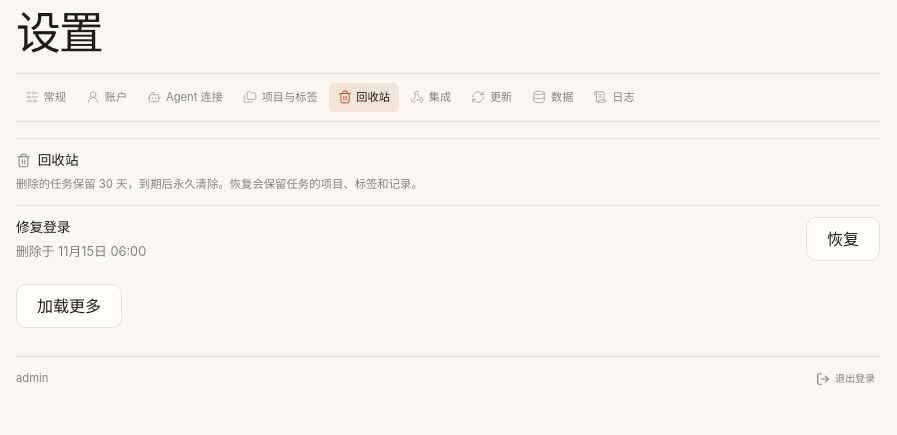
Test: paginates trash, retries errors and restores immediately with cache invalidation
This screenshot has width=897, height=435.
Expected: the text "修复登录" is shown, x1=16 y1=219 x2=70 y2=235
Expected: the text "删除的任务保留 30 天，到期后永久清除。恢复会保留任务的项目、标签和记录。" is shown, x1=16 y1=177 x2=423 y2=191
Click the button "加载更多" at (69, 306), box x1=16 y1=284 x2=122 y2=328
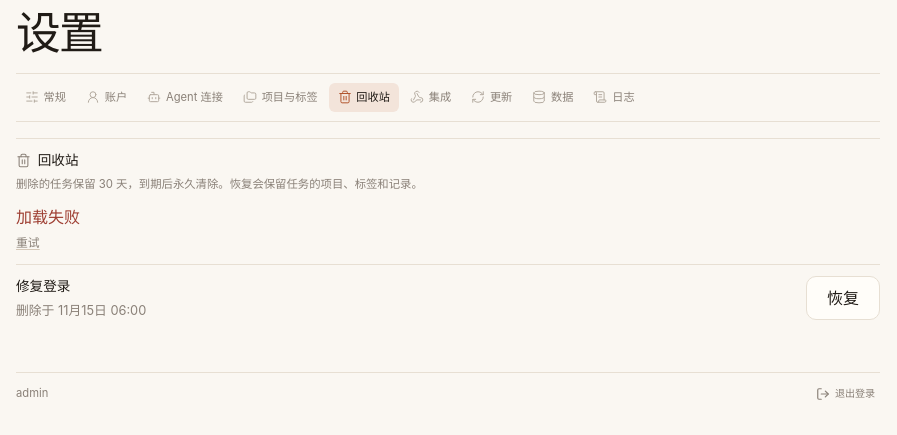
Now the message shows "加载失败", box x1=16 y1=207 x2=80 y2=227
Click the button "重试" at (28, 244), box x1=16 y1=235 x2=40 y2=252
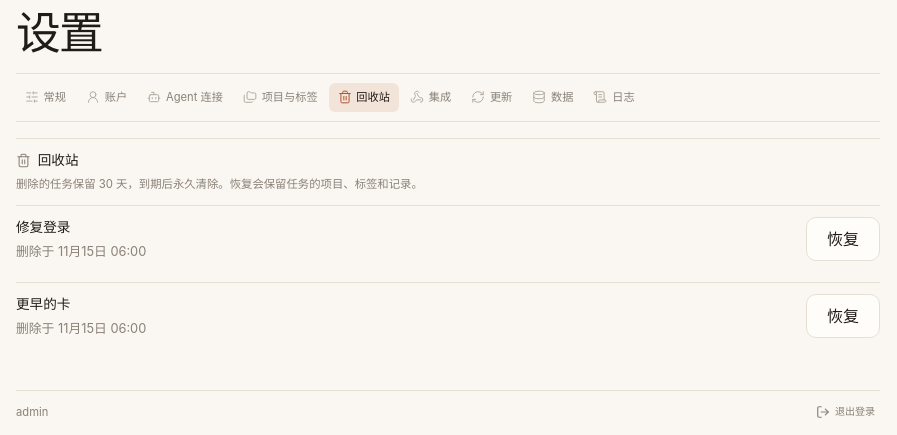
Now the text "更早的卡" is shown, box x1=16 y1=296 x2=70 y2=312
Click the button with aria-label "恢复任务 修复登录" at (843, 239), box x1=806 y1=217 x2=880 y2=261
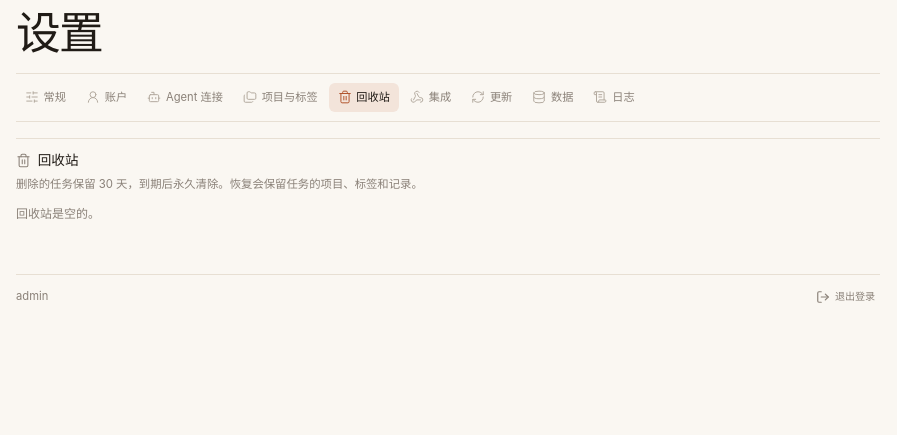
Now the text "修复登录" is gone
